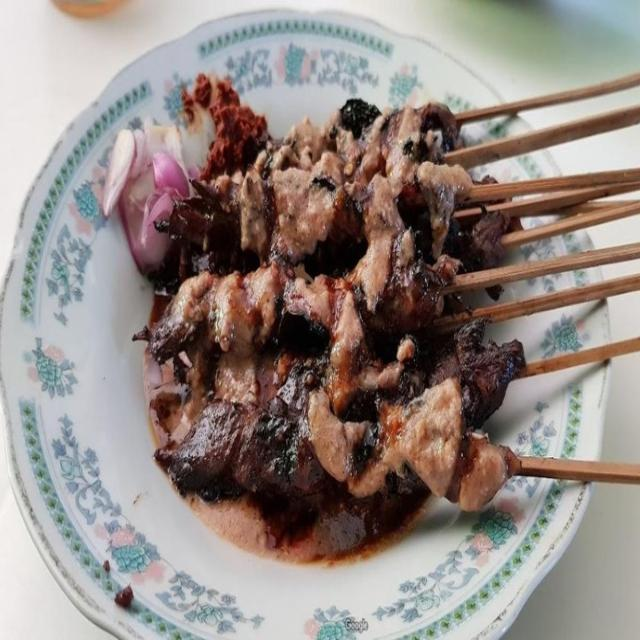Sate: (187, 84, 627, 545)
